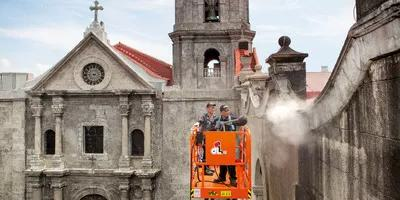San Agustin Church: (25, 1, 265, 200)
